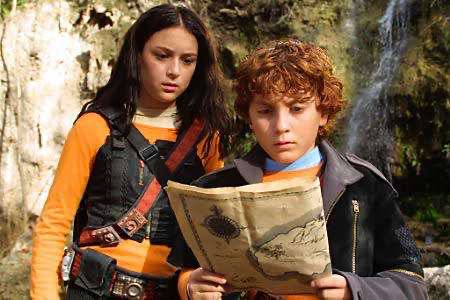Face: (250, 84, 319, 159), (139, 32, 196, 105)
